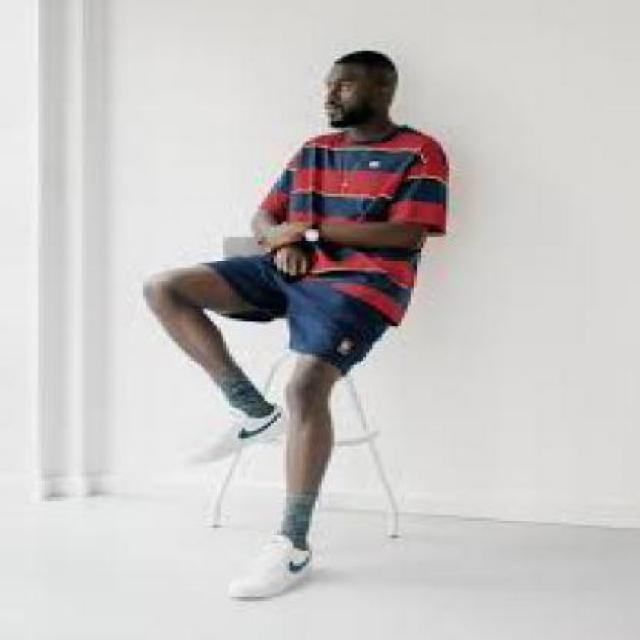Nike: (232, 411, 280, 439), (280, 549, 313, 572)
